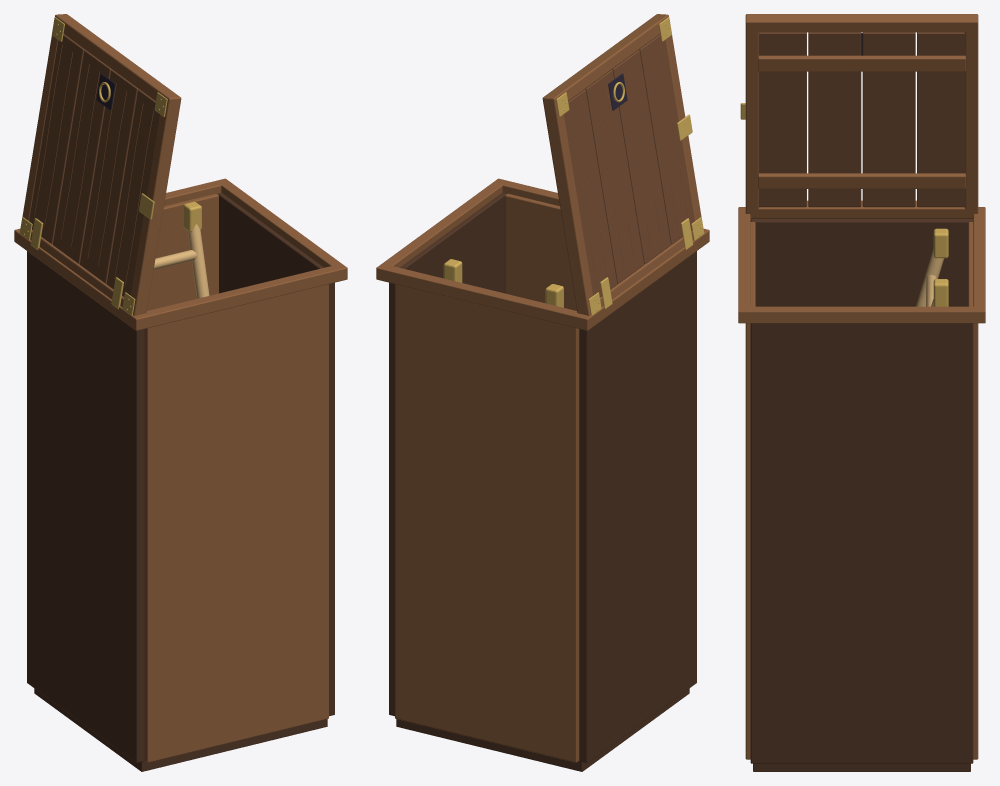
File: cellar_hatch_open.glb
3 views of the same model, side by side, from view 1: azimuth 30°, elevation 25°; view 2: azimuth 150°, elevation 25°; view 3: azimuth 270°, elevation 25° (orthographic).
Visible parts, largest first — view 1: Dark_shaft_end.001, Dark_shaft_wall, Dark_shaft_wall.001, Walnut_lid_plank.002, Walnut_lid_plank.001, Walnut_lid_plank, Walnut_lid_plank.003, Dark_shaft_end, Fixed_frame_end.001, Lid_end_rail.001, Lid_side_stile.001, Cellar_landing (+6 smaller); view 2: Dark_shaft_end, Dark_shaft_wall, Dark_shaft_wall.001, Dark_shaft_end.001, Walnut_lid_plank.001, Walnut_lid_plank.002, Walnut_lid_plank.003, Walnut_lid_plank, Lid_end_rail, Fixed_frame_end, Lid_side_stile.001, Cellar_landing (+5 smaller); view 3: Dark_shaft_wall.001, Dark_shaft_wall, Walnut_lid_plank.001, Walnut_lid_plank.002, Walnut_lid_plank, Walnut_lid_plank.003, Lid_side_stile.001, Fixed_frame_side.001, Underside_reinforcement.001, Underside_reinforcement, Dark_shaft_end, Dark_shaft_end.001 (+9 smaller).
Boxes of the visible parts, x1,y1,x2,y2 form: Dark_shaft_end.001: (144,284,328,762); Dark_shaft_wall: (27,251,144,762); Dark_shaft_wall.001: (217,192,334,716); Walnut_lid_plank.002: (79,69,138,283); Walnut_lid_plank.001: (53,50,111,264); Walnut_lid_plank: (29,34,84,244); Walnut_lid_plank.003: (106,89,159,296); Dark_shaft_end: (147,193,218,310); Fixed_frame_end.001: (130,264,347,330); Lid_end_rail.001: (130,105,180,312); Lid_side_stile.001: (55,14,181,109); Cellar_landing: (34,688,327,771); Dark_shaft_end: (395,284,579,762); Dark_shaft_wall: (579,251,696,762); Dark_shaft_wall.001: (389,192,506,716); Dark_shaft_end.001: (505,193,576,310); Walnut_lid_plank.001: (585,69,644,283); Walnut_lid_plank.002: (612,50,670,264); Walnut_lid_plank.003: (639,34,694,244); Walnut_lid_plank: (564,89,617,296); Lid_end_rail: (543,105,593,312); Fixed_frame_end: (376,264,593,330); Lid_side_stile.001: (542,14,668,109); Cellar_landing: (396,688,689,771); Dark_shaft_wall.001: (750,323,973,763); Dark_shaft_wall: (750,219,973,306); Walnut_lid_plank.001: (862,32,915,207); Walnut_lid_plank.002: (808,32,861,207); Walnut_lid_plank: (917,32,964,207); Walnut_lid_plank.003: (759,32,806,207); Lid_side_stile.001: (745,14,978,32); Fixed_frame_side.001: (738,306,985,323); Underside_reinforcement.001: (758,55,965,71); Underside_reinforcement: (758,173,965,188); Dark_shaft_end: (968,222,978,759); Dark_shaft_end.001: (745,222,755,759).
Size of the model in its own units: 1 by 3.03 by 1.
